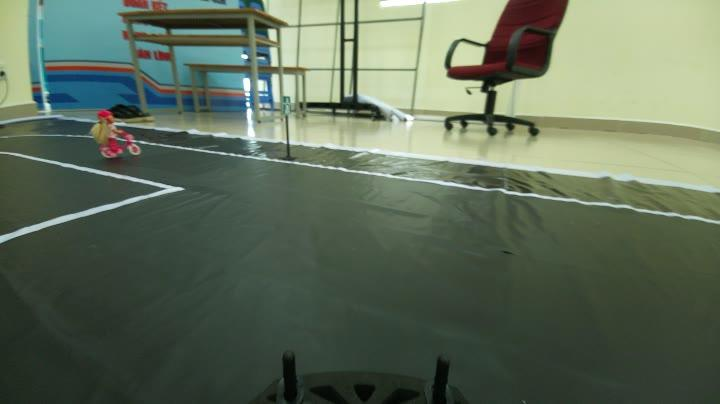pedestrian: (77, 108, 143, 155)
